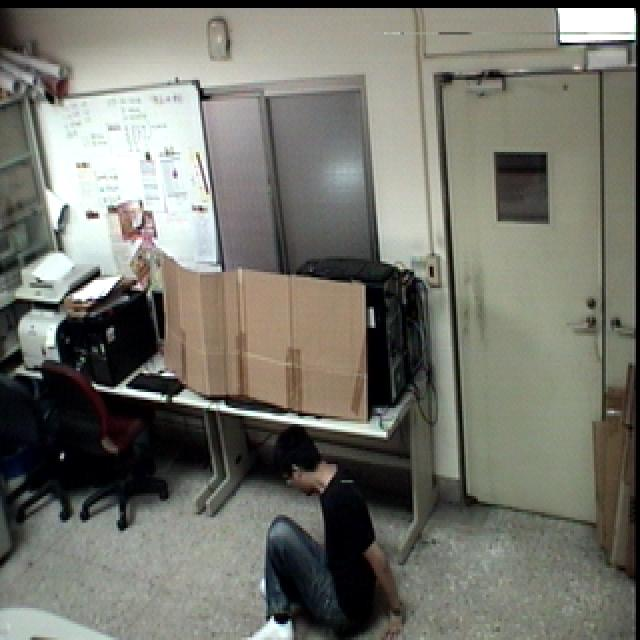sit: (240, 423, 411, 640)
